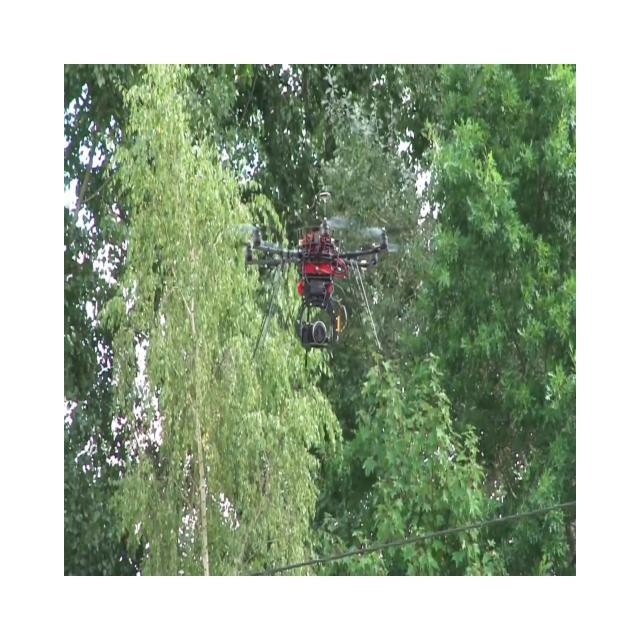drone: (236, 189, 398, 367)
